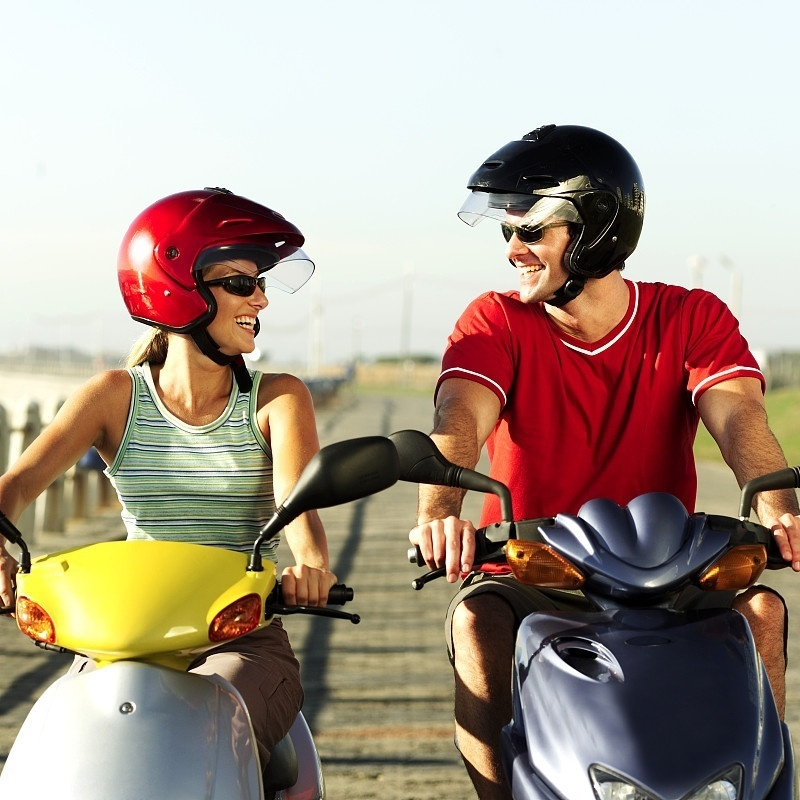non-vehicle: (432, 439, 792, 793), (1, 499, 359, 799)
